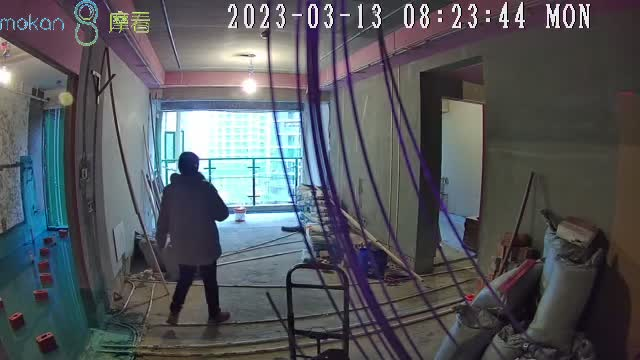people: (157, 151, 229, 324)
window: (163, 109, 301, 205)
